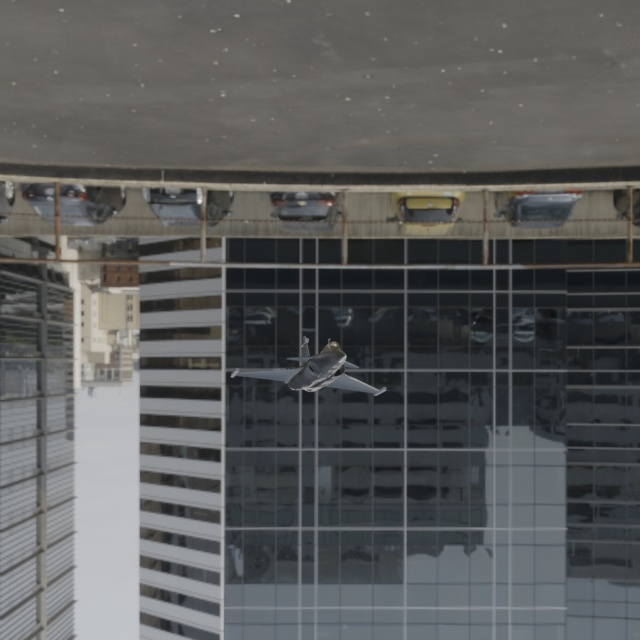dassault_rafale: (226, 282, 435, 406)
